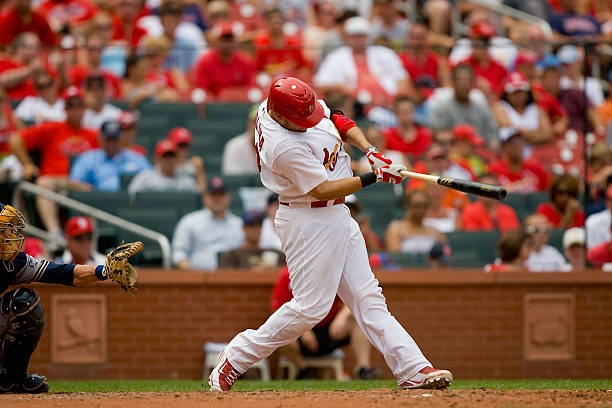bita: (377, 159, 508, 199)
